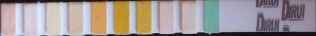color 1: (2, 4, 14, 34)
color 10: (206, 2, 217, 30)
color 2: (25, 5, 37, 33)
color 3: (48, 4, 59, 33)
color 4: (70, 4, 82, 33)
color 5: (93, 4, 105, 32)
color 6: (116, 3, 127, 32)
color 7: (138, 3, 149, 31)
color 8: (161, 3, 172, 31)
color 9: (183, 4, 195, 32)
